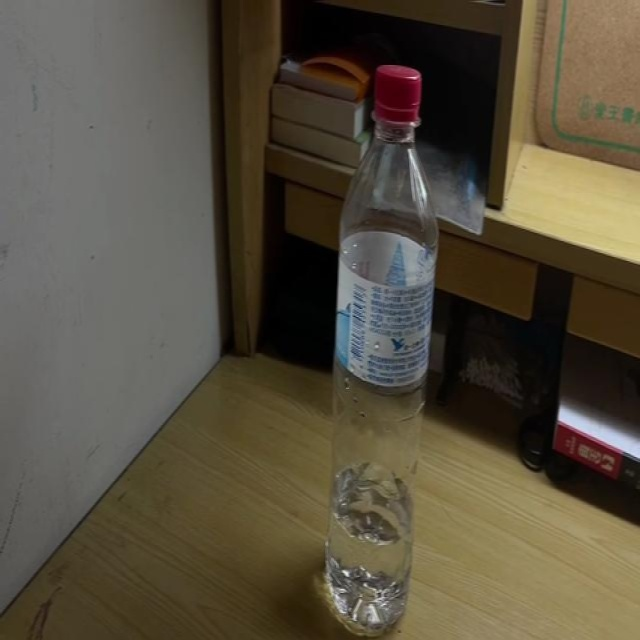Water: (326, 62, 437, 634)
